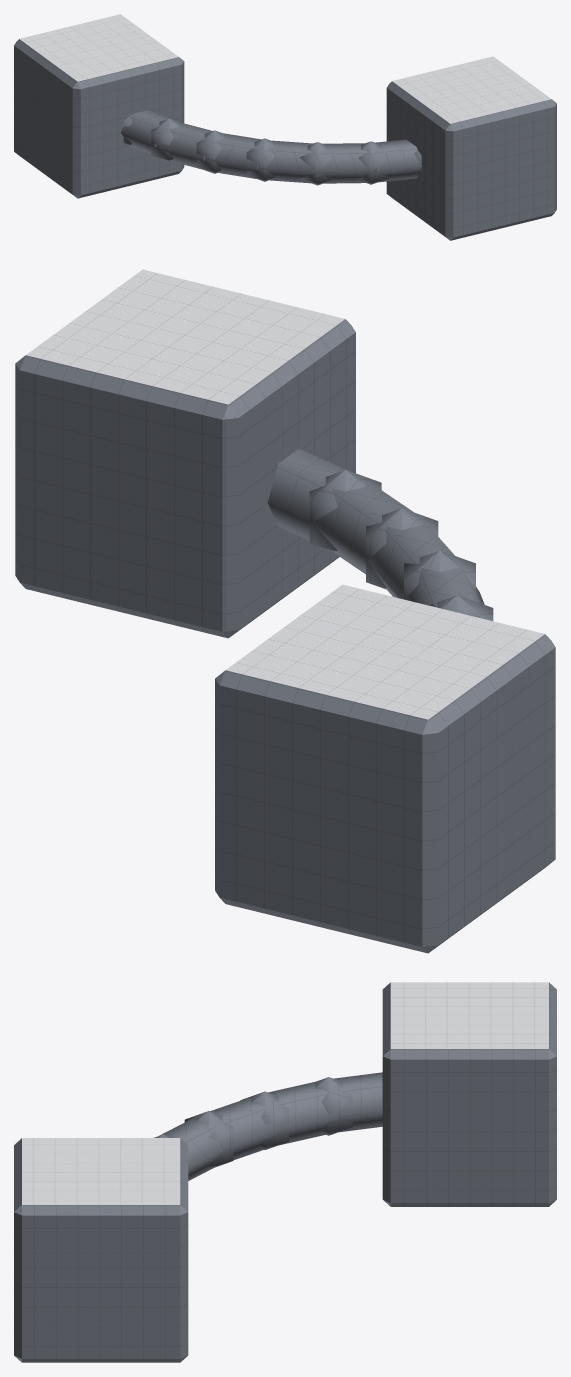
Rendered from R4C_STRUT_ARC_LOD1.glb.
3 renders of one model, top to bottom at view 1: azimuth 30°, elevation 25°; view 2: azimuth 150°, elevation 25°; view 3: azimuth 270°, elevation 25°, orthographic. The views are drawn at different scales.
Visible parts, largest first — view 1: R4C_STRUT_ARC_LOD1; view 2: R4C_STRUT_ARC_LOD1; view 3: R4C_STRUT_ARC_LOD1.
Part boxes in pixels (x1,y1,x2,y2): R4C_STRUT_ARC_LOD1: [14, 14, 556, 240]; R4C_STRUT_ARC_LOD1: [15, 269, 555, 953]; R4C_STRUT_ARC_LOD1: [14, 982, 556, 1362].
Bounding box in the file's own units: 1.62 × 0.52 × 1.62.
2 materials, 2 textured.
